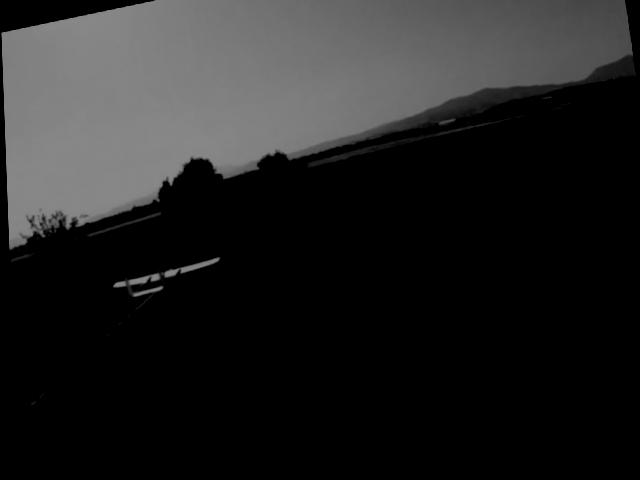hedef: (104, 250, 227, 315)
